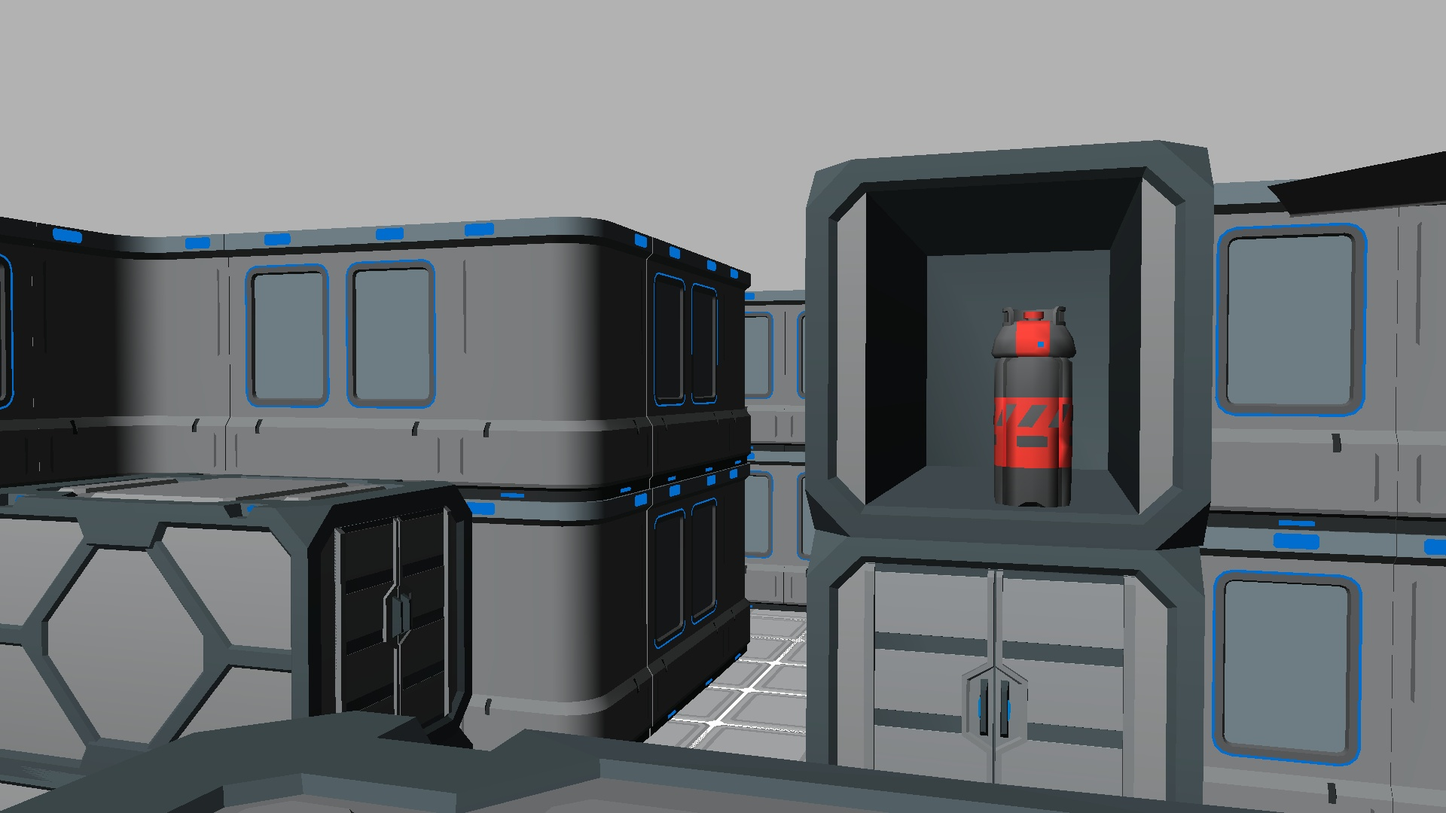red barrel: (992, 306, 1077, 508)
